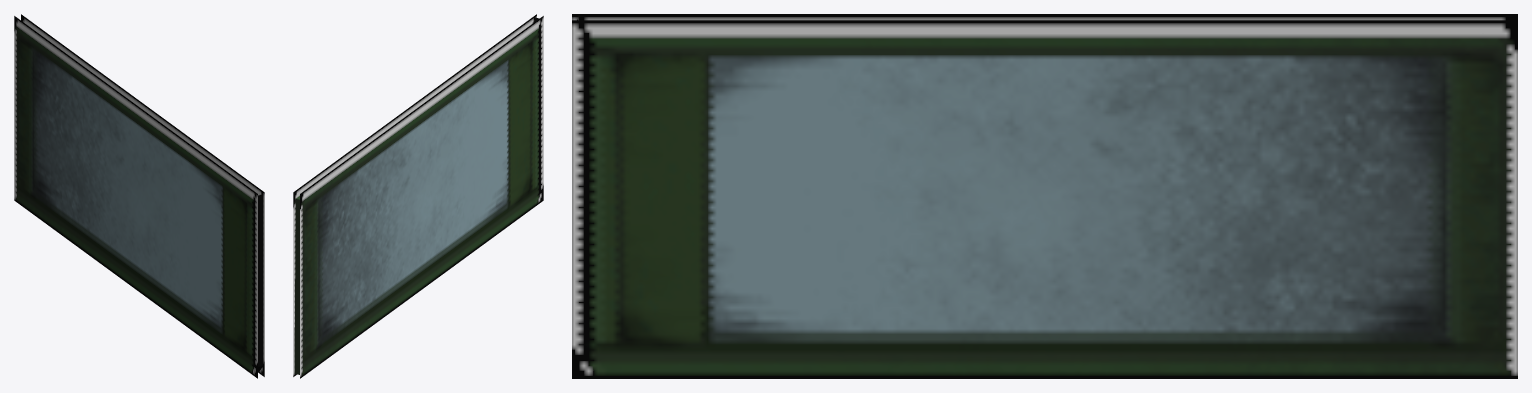
File: pz_native_location_shop_greenes_01_9_frame.obj
3 renders of one model, left to right at view 1: azimuth 30°, elevation 25°; view 2: azimuth 150°, elevation 25°; view 3: azimuth 270°, elevation 25°, orthographic. The views are drawn at different scales.
Parts seen in each view (by area): view 1: pz_native_location_shop_greenes_01_9_frame; view 2: pz_native_location_shop_greenes_01_9_frame; view 3: pz_native_location_shop_greenes_01_9_frame.
Boxes of the visible parts, x1=… form: pz_native_location_shop_greenes_01_9_frame: x1=14, y1=14, x2=264, y2=378; pz_native_location_shop_greenes_01_9_frame: x1=293, y1=14, x2=543, y2=378; pz_native_location_shop_greenes_01_9_frame: x1=572, y1=14, x2=1517, y2=378.
Bounding box in the file's own units: 0.04 × 1.06 × 2.54.
1 material, 1 textured.
